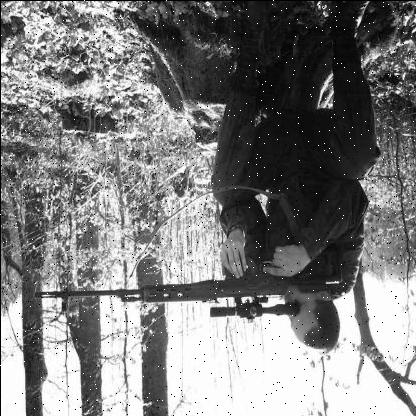rifle: (12, 223, 347, 341)
